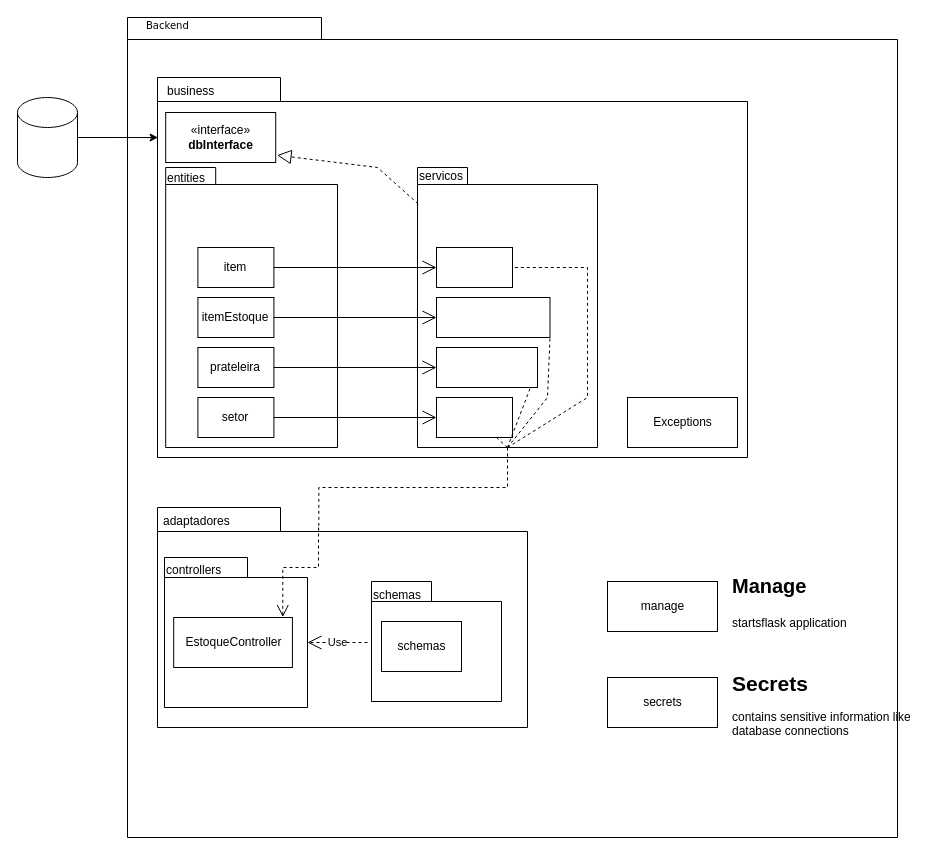
Image size: 935x855. Some labels were removed from this diagram. Each missing label, with the centre of its shape:
"itemEstoqueService" belongs at point 493,317.
"itemService" belongs at point 474,267.
"postgree" belongs at point 47,137.
"prateleiraService" belongs at point 487,367.
"setorService" belongs at point 474,417.
